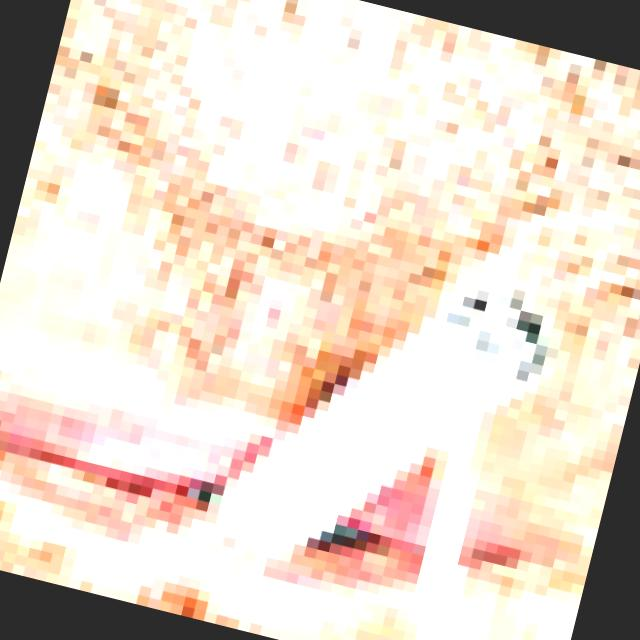cigarette: (170, 163, 599, 640)
